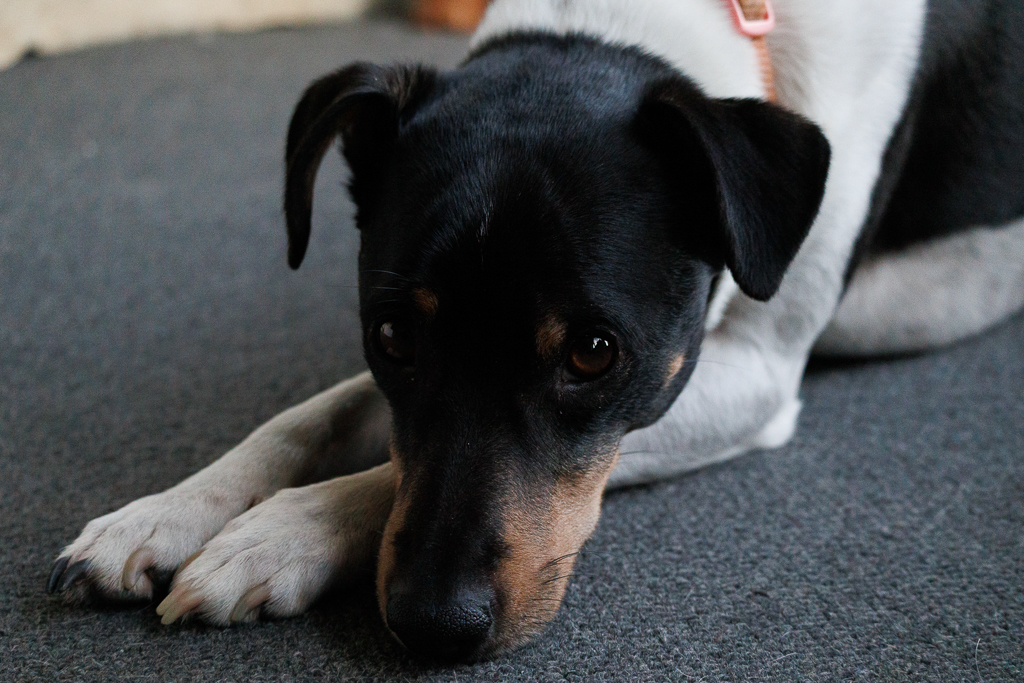Dog: (36, 0, 1024, 672)
